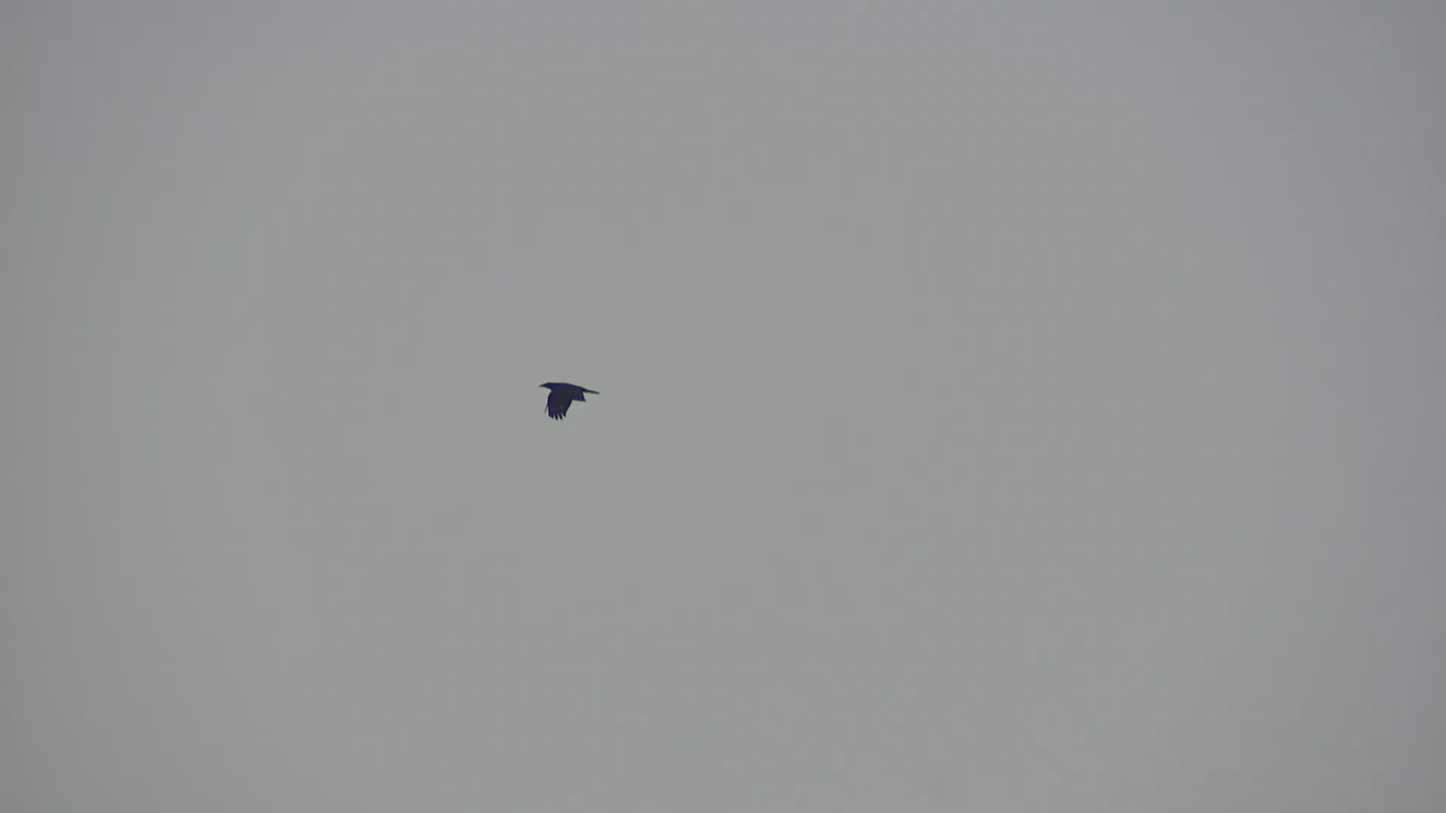Crow: (538, 382, 601, 421)
